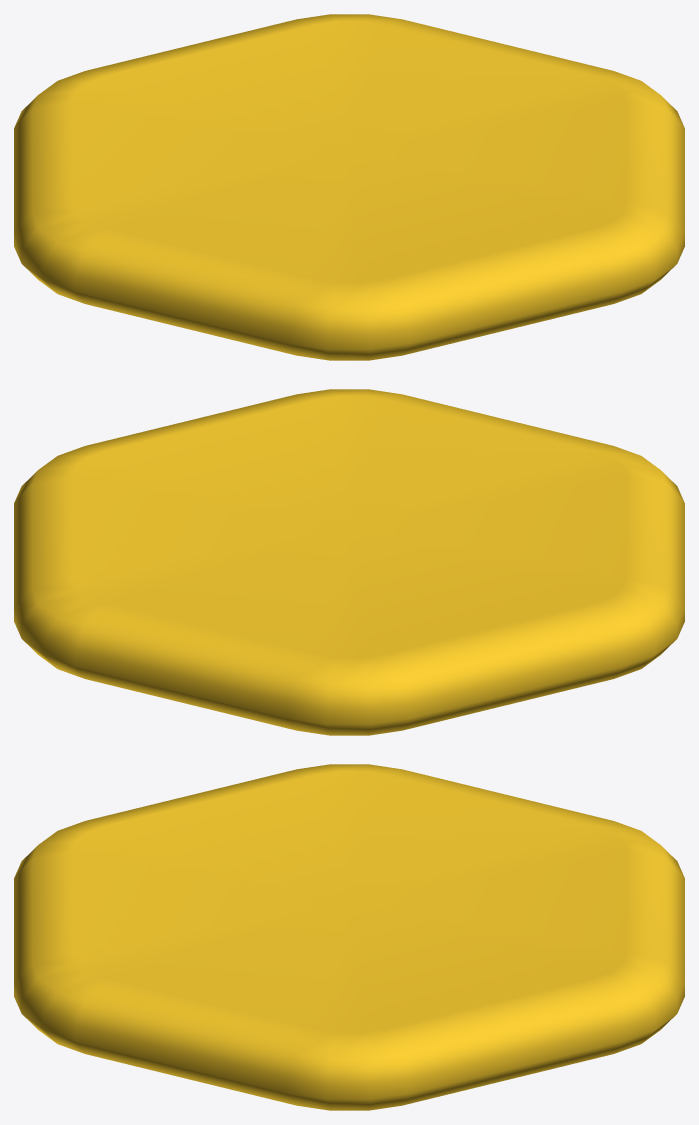
The model's file is Hex_Color.fbx.
3 renders of one model, top to bottom at view 1: azimuth 30°, elevation 25°; view 2: azimuth 150°, elevation 25°; view 3: azimuth 270°, elevation 25°, orthographic.
Visible parts, largest first — view 1: SM_Yellow; view 2: SM_Yellow; view 3: SM_Yellow.
Boxes of the visible parts, x1,y1,x2,y2 form: SM_Yellow: [14, 14, 684, 360]; SM_Yellow: [14, 389, 684, 735]; SM_Yellow: [14, 764, 684, 1110].
Bounding box in the file's own units: 218 × 23.58 × 200.
1 material, 1 textured.
